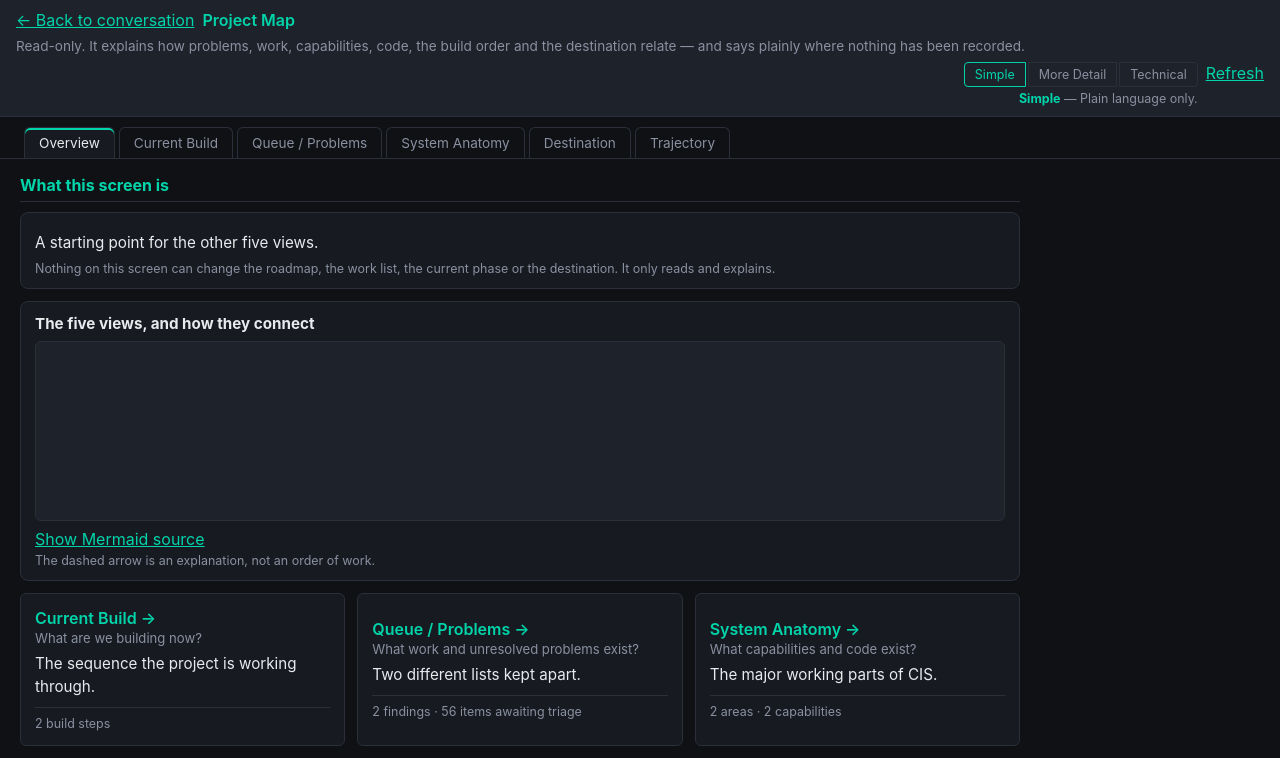
Test case: ProjectMap — Destination area reuses the Destination view › embeds the destination component, which fetches its own authority
What coordinates should you click on to do the following:
click the tab "Destination"
I would click on:
 (580, 142)
Its box is [529,127,631,158].
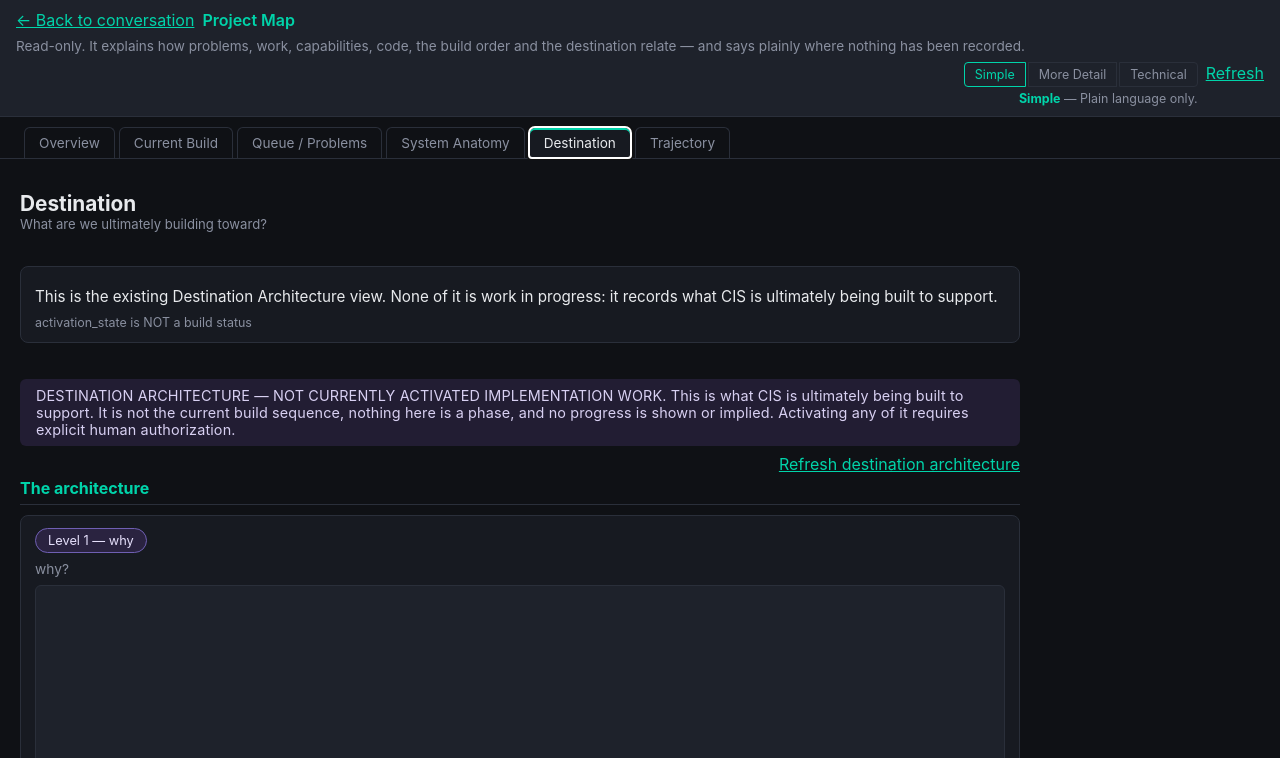
Check: the text "records what CIS is ultimately being built to support" is shown, box [35,287,998,306]
